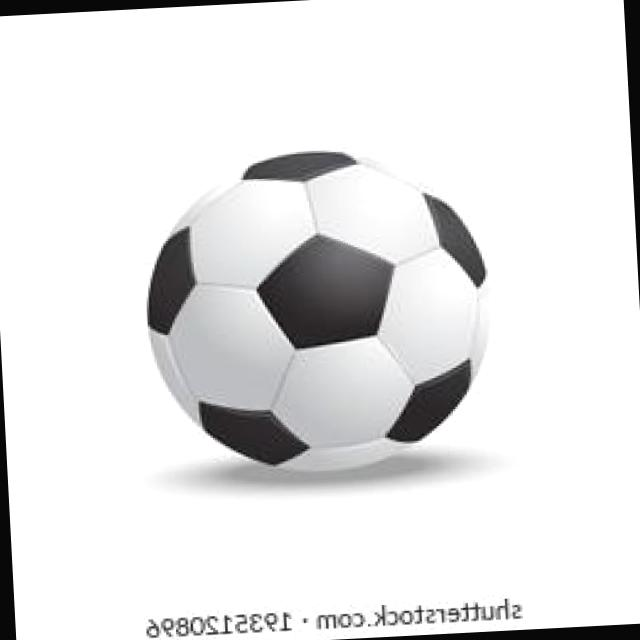Soccer Ball: (139, 142, 498, 484)
